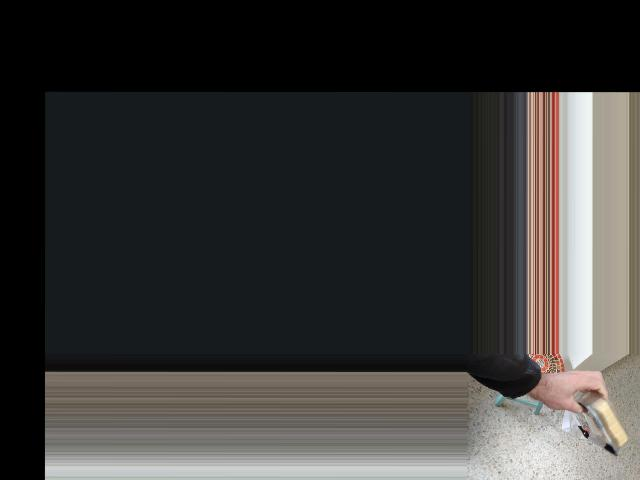cheese: (555, 360, 640, 468)
